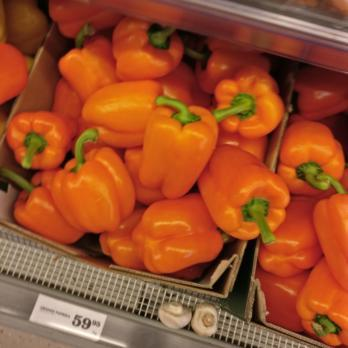Capsicum: (152, 69, 283, 276), (51, 38, 147, 241), (285, 75, 348, 337), (2, 109, 73, 171)
